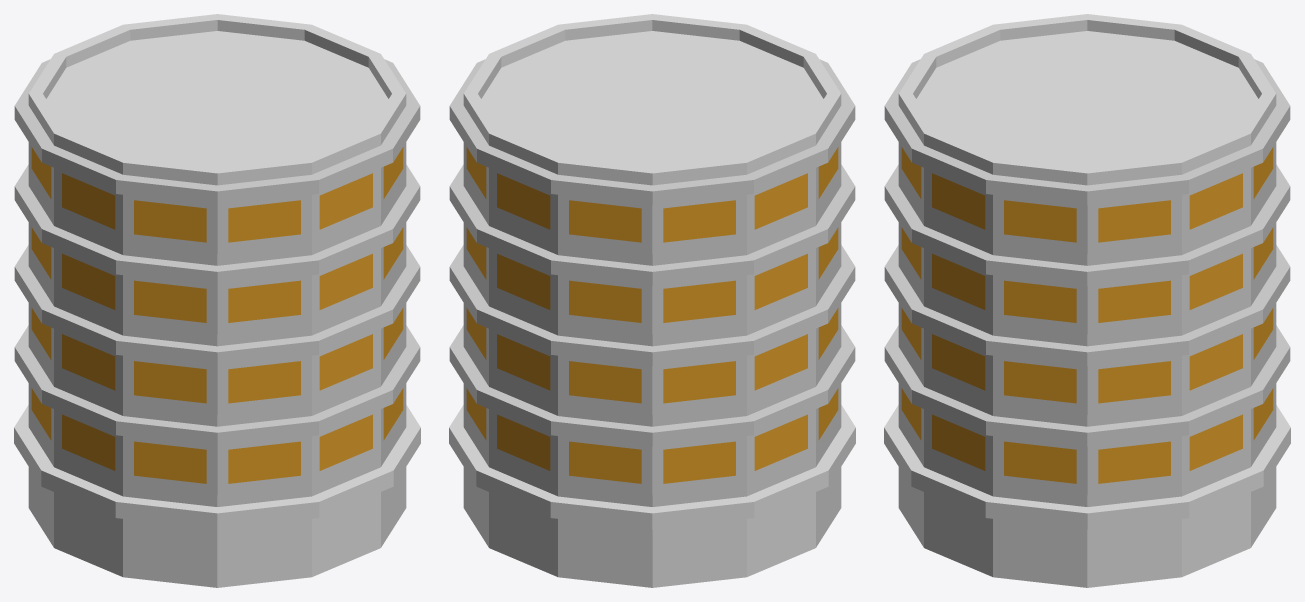
3 views of the same model, side by side, from view 1: azimuth 30°, elevation 25°; view 2: azimuth 150°, elevation 25°; view 3: azimuth 270°, elevation 25° (orthographic).
Parts seen in each view (by area): view 1: rBody, rTop, rBottom; view 2: rBody, rTop, rBottom; view 3: rBody, rTop, rBottom.
Part boxes in pixels (left/top/right/bottom): rBody: left=14, top=59, right=420, bottom=506; rTop: left=28, top=14, right=406, bottom=185; rBottom: left=14, top=405, right=420, bottom=587; rBody: left=449, top=59, right=855, bottom=506; rTop: left=463, top=14, right=841, bottom=185; rBottom: left=449, top=405, right=855, bottom=587; rBody: left=884, top=59, right=1290, bottom=506; rTop: left=898, top=14, right=1276, bottom=185; rBottom: left=884, top=405, right=1290, bottom=587.
Bounding box in the file's own units: 216 × 216 × 242.
